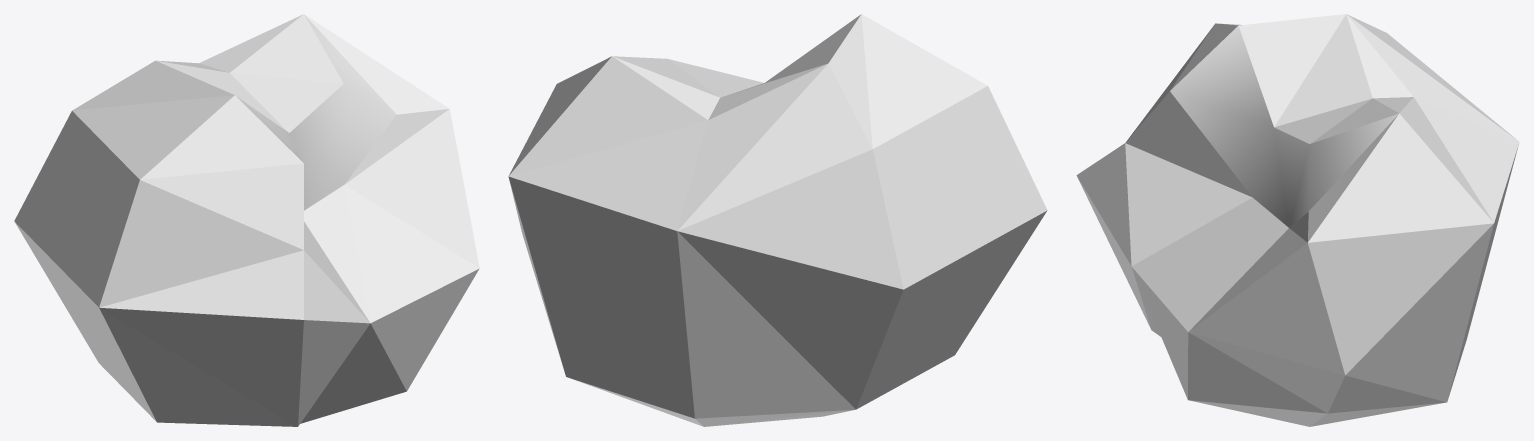
File: 73_prop_trash.FBX
3 views of the same model, side by side, from view 1: azimuth 30°, elevation 25°; view 2: azimuth 150°, elevation 25°; view 3: azimuth 270°, elevation 25° (orthographic). The views are drawn at different scales.
Parts seen in each view (by area): view 1: prop_trash; view 2: prop_trash; view 3: prop_trash.
Part boxes in pixels (<box>): prop_trash: <box>14,14,479,426</box>; prop_trash: <box>508,14,1047,426</box>; prop_trash: <box>1076,14,1519,426</box>.
Bounding box in the file's own units: 7.97 × 6.31 × 7.5.
